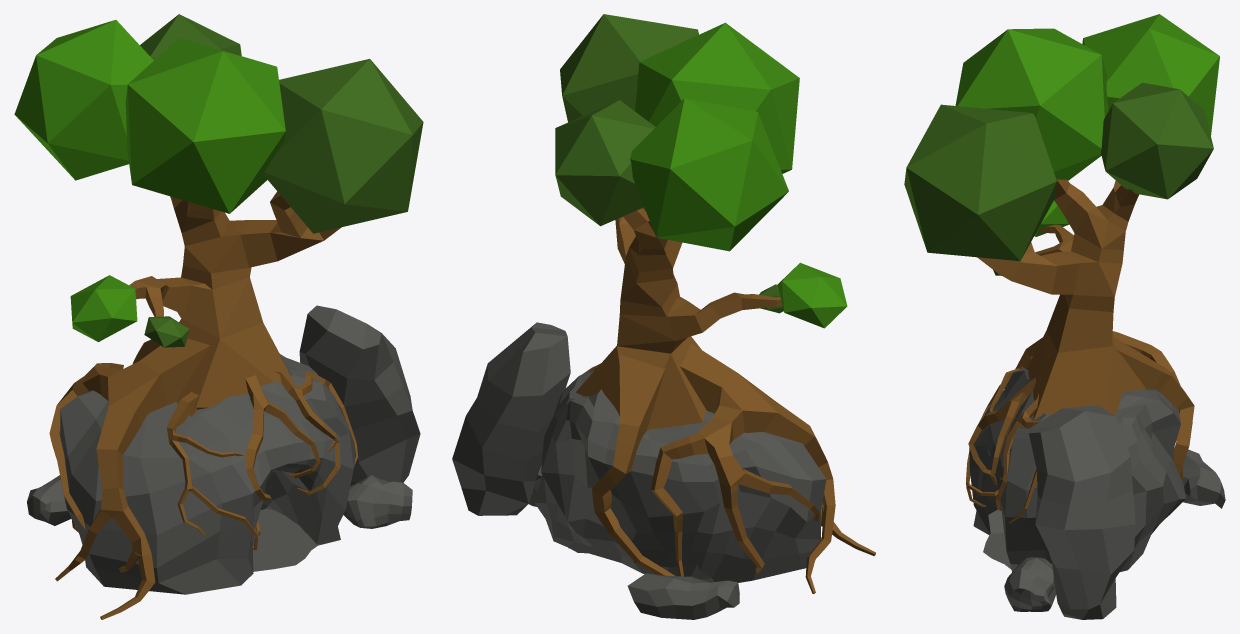
Rendered from Shelter.fbx.
3 renders of one model, left to right at view 1: azimuth 30°, elevation 25°; view 2: azimuth 150°, elevation 25°; view 3: azimuth 270°, elevation 25°, orthographic. The views are drawn at different scales.
Visible parts, largest first — view 1: Cube.008, Cube.009, Icosphere.026, Icosphere.027, Icosphere.024, Cylinder, Cube.011, Icosphere.028, Cube.010, Plane.001, Icosphere.025, Cylinder.001 (+1 smaller); view 2: Cube.009, Cube.008, Icosphere.024, Cylinder, Icosphere.026, Icosphere.025, Icosphere.027, Cylinder.001, Icosphere.028; view 3: Cube.009, Icosphere.027, Cylinder, Cube.008, Icosphere.026, Icosphere.025, Icosphere.024, Cube.011, Cube.010, Cylinder.001, Plane.001, Icosphere.028.
Part boxes in pixels (<box>): Cube.008: <box>60,354,355,594</box>; Cube.009: <box>49,191,341,619</box>; Icosphere.026: <box>125,38,285,213</box>; Icosphere.027: <box>264,59,423,233</box>; Icosphere.024: <box>14,20,153,180</box>; Cylinder: <box>299,305,420,485</box>; Cube.011: <box>167,371,358,550</box>; Icosphere.028: <box>70,275,137,341</box>; Cube.010: <box>343,475,412,528</box>; Plane.001: <box>253,508,319,571</box>; Icosphere.025: <box>140,14,241,60</box>; Cylinder.001: <box>27,475,71,525</box>; Cube.009: <box>576,207,875,593</box>; Cube.008: <box>534,369,826,582</box>; Icosphere.024: <box>630,98,788,251</box>; Cylinder: <box>452,322,570,515</box>; Icosphere.026: <box>635,22,799,173</box>; Icosphere.025: <box>555,100,655,226</box>; Icosphere.027: <box>560,14,698,122</box>; Cylinder.001: <box>627,573,739,619</box>; Icosphere.028: <box>777,262,847,328</box>; Cube.009: <box>977,179,1194,479</box>; Icosphere.027: <box>904,104,1056,261</box>; Cylinder: <box>1028,405,1135,619</box>; Cube.008: <box>969,368,1186,571</box>; Icosphere.026: <box>955,28,1108,180</box>; Icosphere.025: <box>1101,82,1213,199</box>; Icosphere.024: <box>1082,14,1219,135</box>; Cube.011: <box>966,356,1040,523</box>; Cube.010: <box>1004,557,1056,611</box>; Cylinder.001: <box>1174,447,1225,508</box>; Plane.001: <box>983,533,1011,569</box>; Icosphere.028: <box>1034,200,1069,236</box>.
Bounding box in the file's own units: 389 × 534 × 310.
